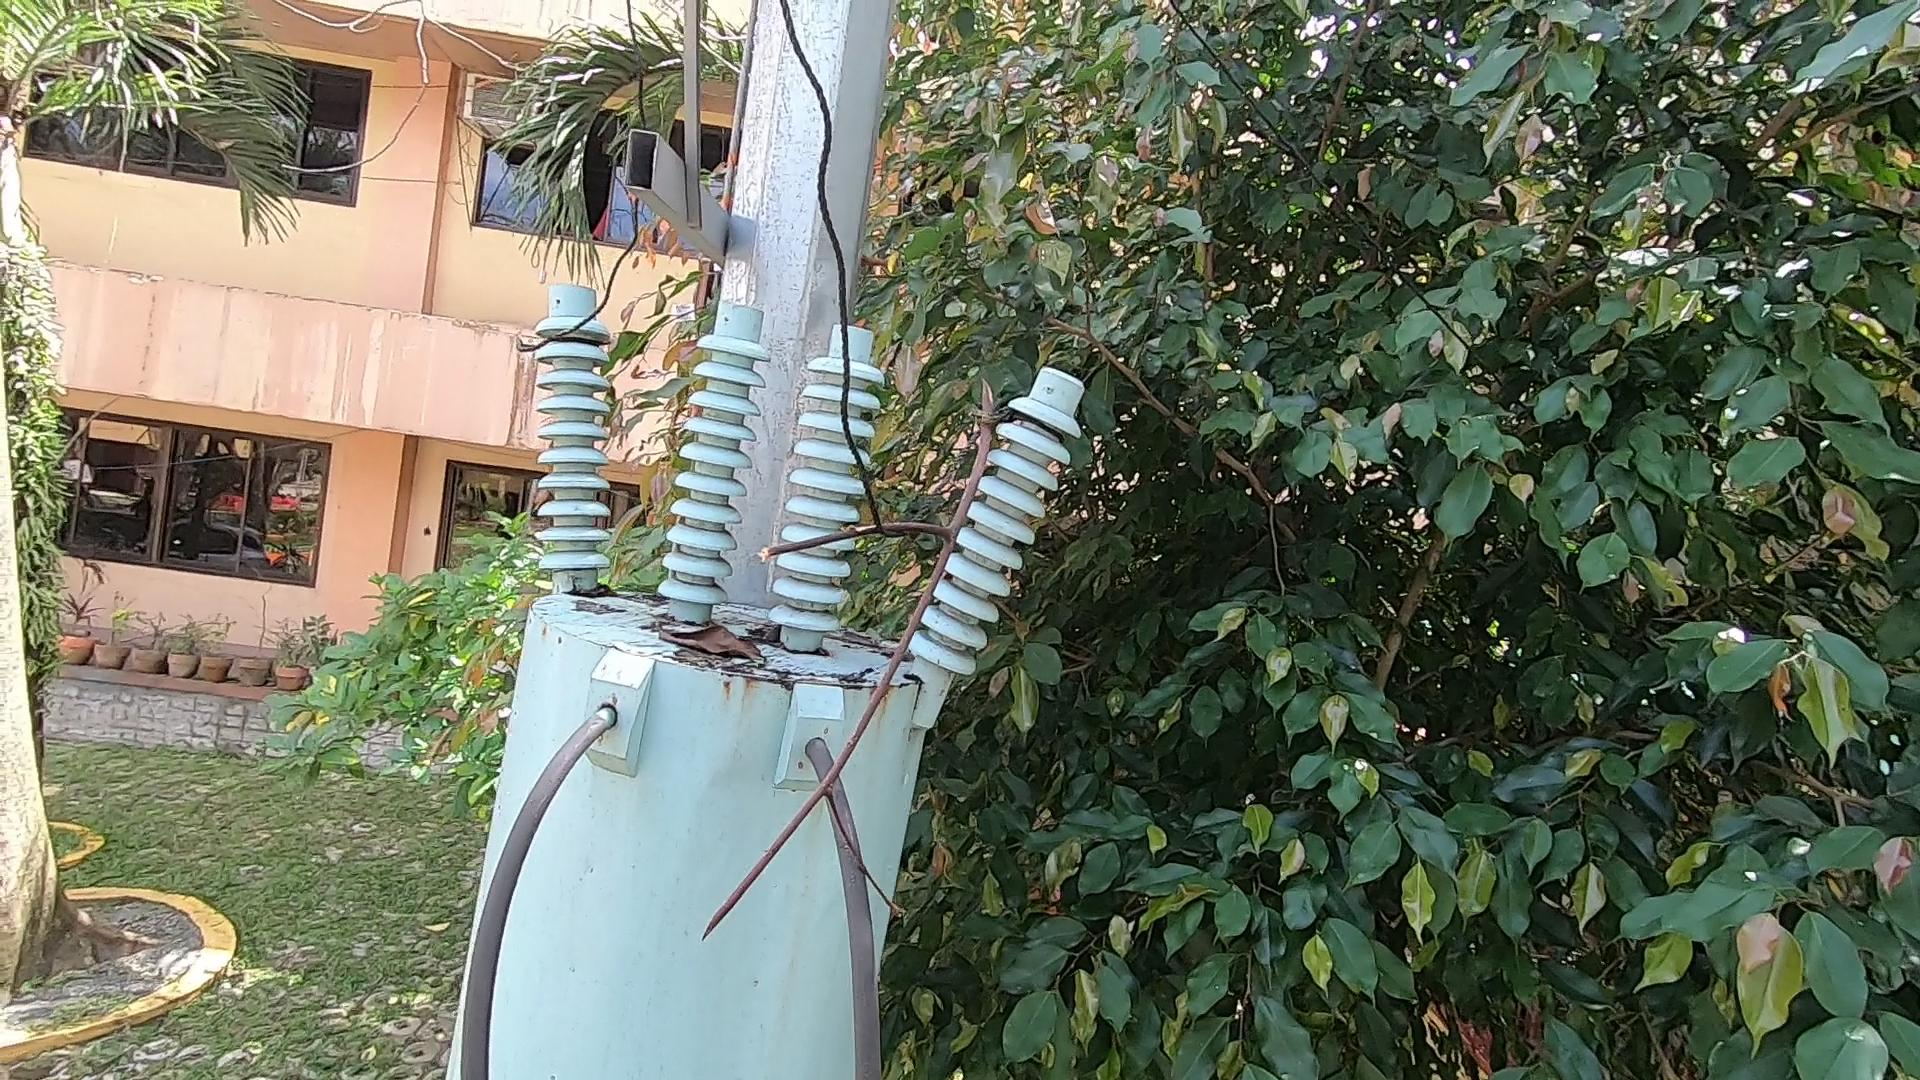leaf: (659, 609, 775, 684)
tree branch: (683, 363, 1095, 975)
